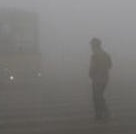person: (86, 36, 112, 120)
